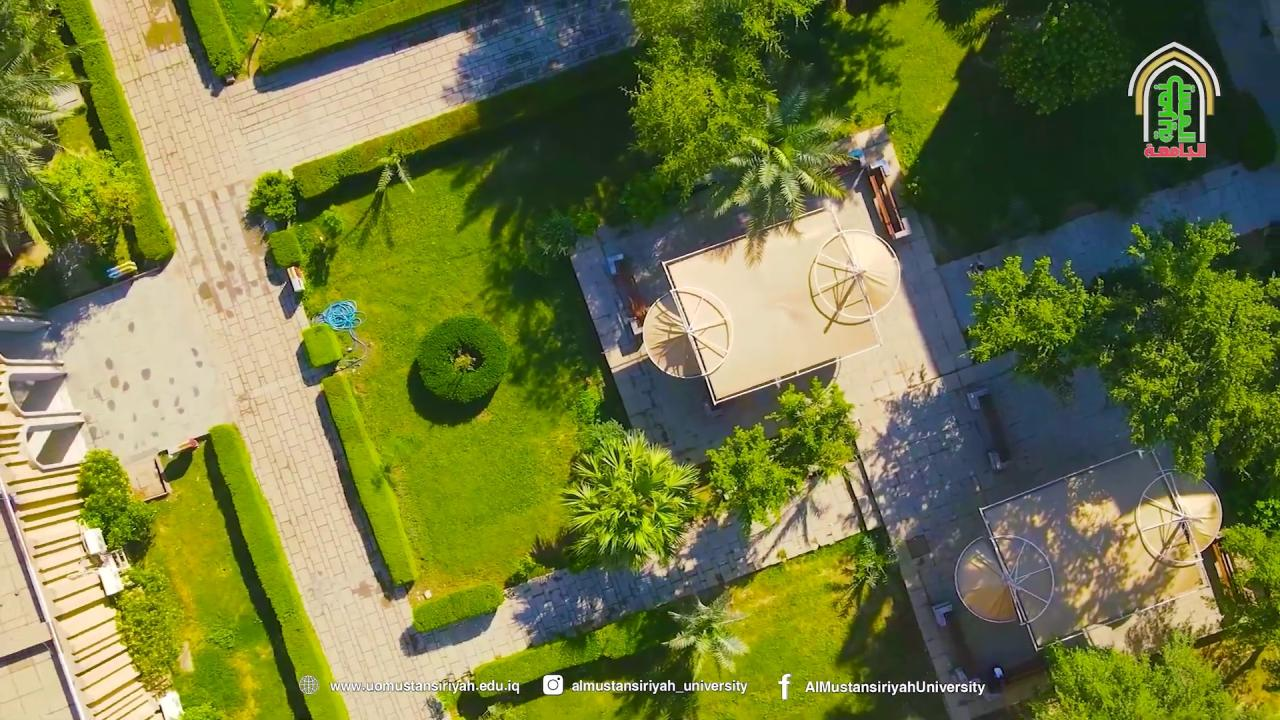tree: (617, 0, 859, 267), (1099, 213, 1279, 485), (707, 84, 855, 268), (702, 375, 864, 541), (0, 0, 99, 262), (961, 251, 1115, 404), (556, 422, 700, 573), (1026, 628, 1252, 719), (996, 0, 1132, 117), (39, 144, 139, 268), (703, 421, 804, 540), (765, 374, 862, 482), (112, 558, 185, 700), (74, 446, 157, 560), (660, 585, 751, 683), (415, 313, 510, 404), (341, 145, 416, 251), (823, 531, 899, 618), (1218, 496, 1280, 602), (529, 203, 601, 259), (246, 168, 299, 230), (558, 366, 606, 429), (369, 145, 416, 207), (266, 228, 303, 270), (208, 47, 244, 85), (312, 207, 343, 244)
